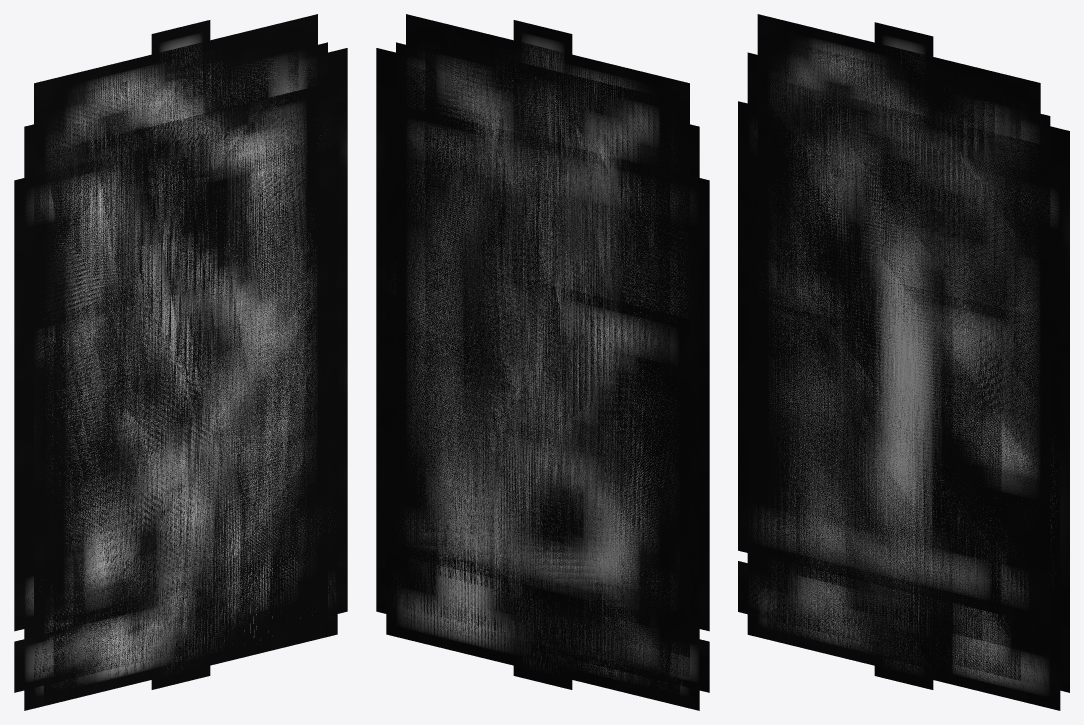
The model's file is msmincho.fbx.
The picture shows the model from 3 angles, left to right: view 1: azimuth 30°, elevation 25°; view 2: azimuth 150°, elevation 25°; view 3: azimuth 330°, elevation 25°; orthographic projection.
Visible parts, largest first — view 1: Untitled.092, Untitled.033, Untitled.071, Untitled.049, Untitled.097, Untitled.052, Untitled.077, Untitled.069, Untitled.035, Untitled.018, Untitled.007, Untitled.096 (+29 smaller); view 2: Untitled.052, Untitled.096, Untitled.062, Untitled.084, Untitled.091, Untitled.088, Untitled.059, Untitled.049, Untitled.045, Untitled.094, Untitled.063, Untitled.097 (+33 smaller); view 3: Untitled.012, Untitled.020, Untitled.035, Untitled.097, Untitled.078, Untitled.084, Untitled.013, Untitled.064, Untitled.094, Untitled.096, Untitled.030, Untitled.049 (+33 smaller).
Part boxes in pixels (left/top/right/bottom): Untitled.092: left=44, top=248, right=327, bottom=705; Untitled.033: left=53, top=90, right=308, bottom=630; Untitled.071: left=53, top=81, right=337, bottom=572; Untitled.049: left=14, top=113, right=337, bottom=631; Untitled.097: left=34, top=14, right=317, bottom=226; Untitled.052: left=34, top=156, right=327, bottom=659; Untitled.077: left=63, top=125, right=298, bottom=701; Untitled.069: left=34, top=87, right=317, bottom=586; Untitled.035: left=35, top=73, right=327, bottom=641; Untitled.018: left=34, top=42, right=327, bottom=687; Untitled.007: left=53, top=101, right=307, bottom=681; Untitled.096: left=53, top=62, right=209, bottom=682; Untitled.052: left=396, top=104, right=689, bottom=677; Untitled.096: left=513, top=61, right=670, bottom=682; Untitled.062: left=425, top=50, right=586, bottom=637; Untitled.084: left=386, top=245, right=679, bottom=705; Untitled.091: left=408, top=273, right=689, bottom=623; Untitled.088: left=396, top=260, right=689, bottom=624; Untitled.059: left=386, top=102, right=688, bottom=622; Untitled.049: left=386, top=102, right=709, bottom=631; Untitled.045: left=396, top=105, right=689, bottom=664; Untitled.094: left=425, top=39, right=582, bottom=646; Untitled.063: left=396, top=104, right=699, bottom=587; Untitled.097: left=406, top=14, right=689, bottom=226; Untitled.012: left=767, top=28, right=952, bottom=674; Untitled.020: left=806, top=122, right=1001, bottom=614; Untitled.035: left=757, top=75, right=1050, bottom=656; Untitled.097: left=757, top=14, right=1040, bottom=225; Untitled.078: left=758, top=86, right=1050, bottom=624; Untitled.084: left=767, top=261, right=1060, bottom=710; Untitled.013: left=757, top=168, right=1050, bottom=575; Untitled.064: left=777, top=54, right=942, bottom=649; Untitled.094: left=865, top=62, right=1020, bottom=680; Untitled.096: left=777, top=39, right=933, bottom=646; Untitled.030: left=845, top=201, right=981, bottom=639; Untitled.049: left=738, top=101, right=1059, bottom=585.
Size of the model in its own units: 56.67 by 107 by 1.74e-05.
Materials: 1 (1 with a texture image).
